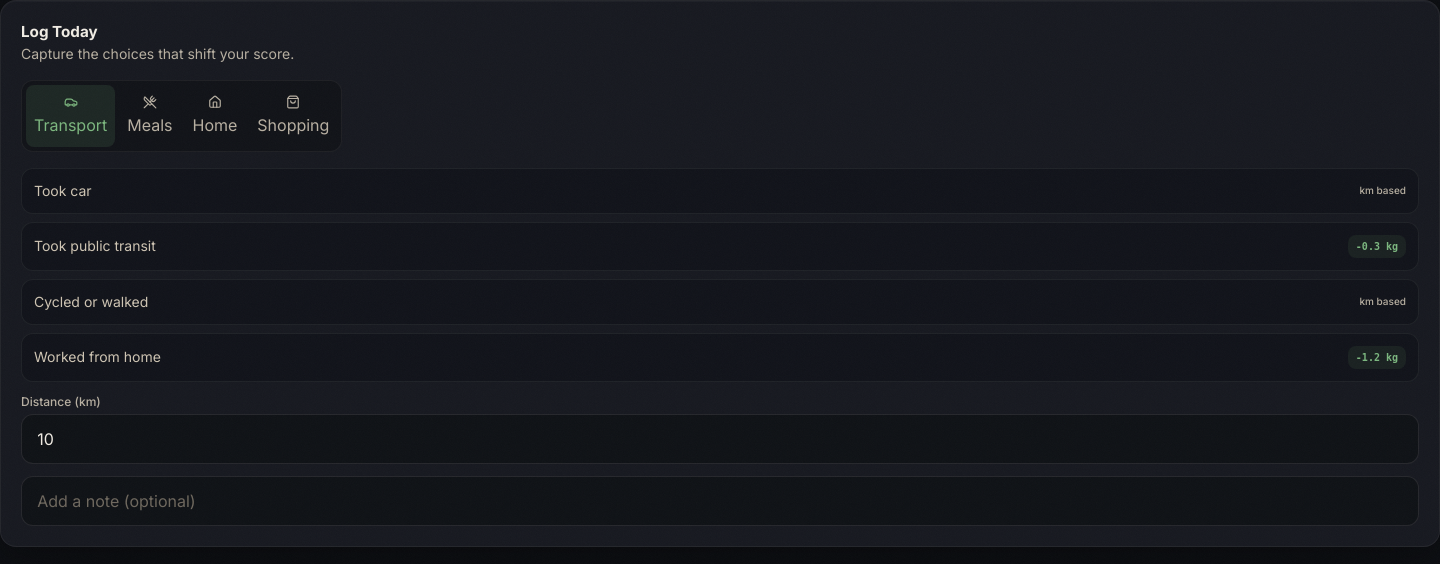
Scenario: ActionLogger Component › updates display to show meal options when Meals category is selected
The width and height of the screenshot is (1440, 564).
Click the tab "Meals".
click(150, 116)  # box x1=119 y1=85 x2=180 y2=147
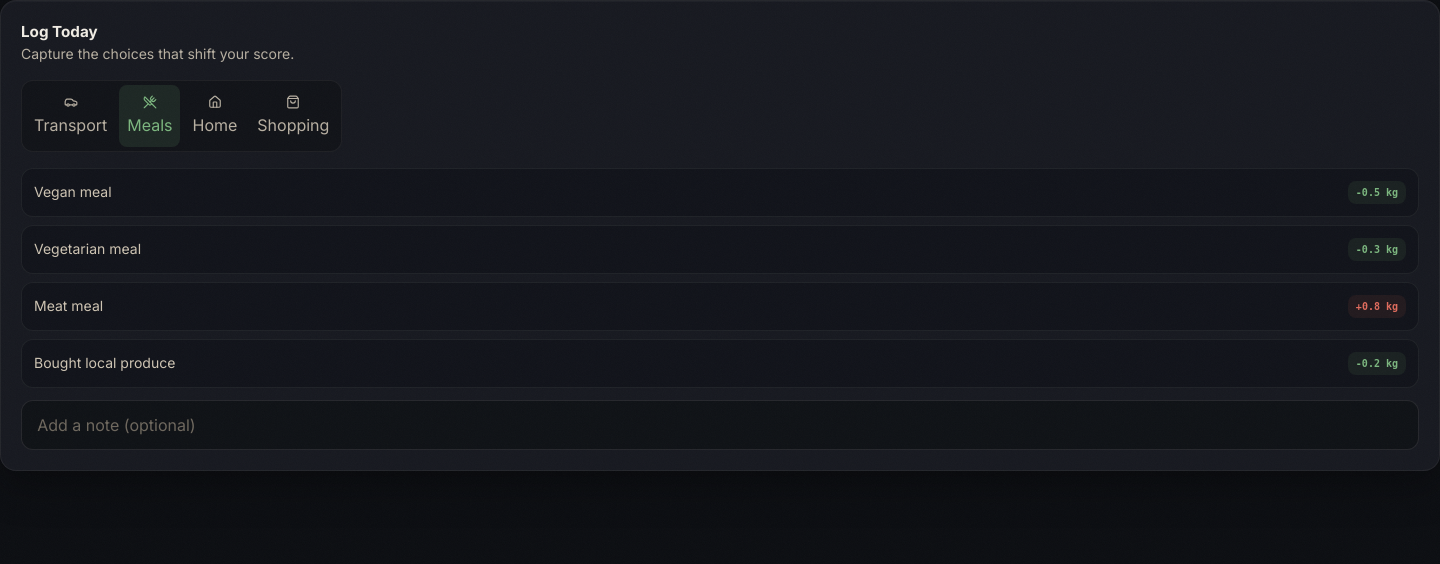
Expected: the text "Vegan meal" is shown, x1=34 y1=182 x2=112 y2=202
Expected: the text "Meat meal" is shown, x1=34 y1=296 x2=103 y2=316
